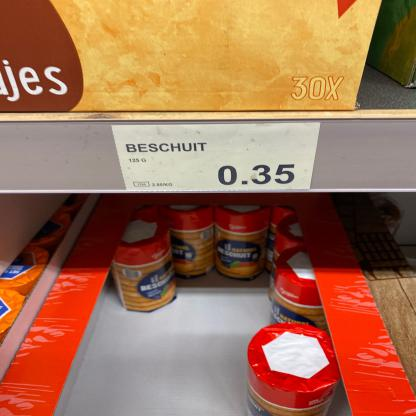prtg: (111, 122, 323, 193)
